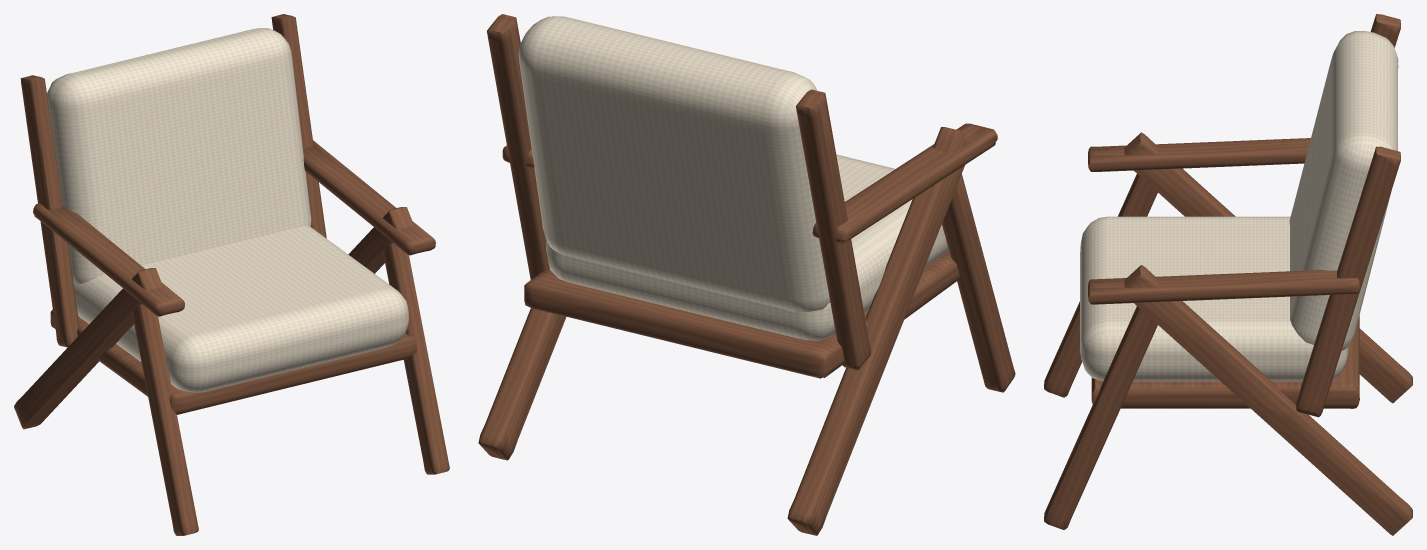
File: measured.glb
The picture shows the model from 3 angles, left to right: view 1: azimuth 30°, elevation 25°; view 2: azimuth 150°, elevation 25°; view 3: azimuth 270°, elevation 25°; orthographic projection. The views are drawn at different scales.
Visible parts, largest first — view 1: Sloped back, Seat cushion, Back stile, Rear diagonal, Seat frame, Front leg, Front leg_1, Floating arm, Floating arm_1, Back stile_1, Rear diagonal_1; view 2: Sloped back, Rear diagonal, Seat frame, Seat cushion, Back stile, Back stile_1, Front leg, Rear diagonal_1, Floating arm; view 3: Seat cushion, Sloped back, Rear diagonal_1, Back stile_1, Floating arm_1, Front leg_1, Floating arm, Seat frame, Rear diagonal, Front leg, Back stile.
Boxes of the visible parts, left/top/right/bottom form: Sloped back: left=47, top=28, right=311, bottom=284; Seat cushion: left=73, top=226, right=409, bottom=392; Back stile: left=20, top=75, right=79, bottom=347; Rear diagonal: left=14, top=268, right=162, bottom=429; Seat frame: left=50, top=309, right=416, bottom=414; Front leg: left=132, top=304, right=198, bottom=535; Front leg_1: left=383, top=243, right=449, bottom=474; Floating arm: left=33, top=203, right=184, bottom=316; Floating arm_1: left=303, top=140, right=435, bottom=255; Back stile_1: left=271, top=14, right=326, bottom=238; Rear diagonal_1: left=348, top=207, right=413, bottom=273; Sloped back: left=518, top=16, right=830, bottom=312; Rear diagonal: left=787, top=127, right=970, bottom=535; Seat frame: left=524, top=250, right=959, bottom=378; Seat cushion: left=546, top=154, right=948, bottom=340; Back stile: left=796, top=89, right=871, bottom=370; Back stile_1: left=487, top=14, right=549, bottom=279; Front leg: left=942, top=174, right=1015, bottom=392; Rear diagonal_1: left=478, top=308, right=566, bottom=460; Floating arm: left=812, top=123, right=997, bottom=243; Seat cushion: left=1080, top=216, right=1348, bottom=381; Sloped back: left=1289, top=31, right=1398, bottom=350; Rear diagonal_1: left=1124, top=265, right=1412, bottom=535; Back stile_1: left=1296, top=146, right=1400, bottom=417; Floating arm_1: left=1088, top=270, right=1360, bottom=304; Front leg_1: left=1044, top=306, right=1157, bottom=529; Floating arm: left=1088, top=138, right=1310, bottom=171; Seat frame: left=1091, top=315, right=1359, bottom=408; Rear diagonal: left=1124, top=132, right=1412, bottom=403; Front leg: left=1044, top=174, right=1157, bottom=397; Back stile: left=1370, top=14, right=1400, bottom=47.
Size of the model in its own units: 0.729 by 0.8845 by 0.772.
2 materials, 2 textured.
